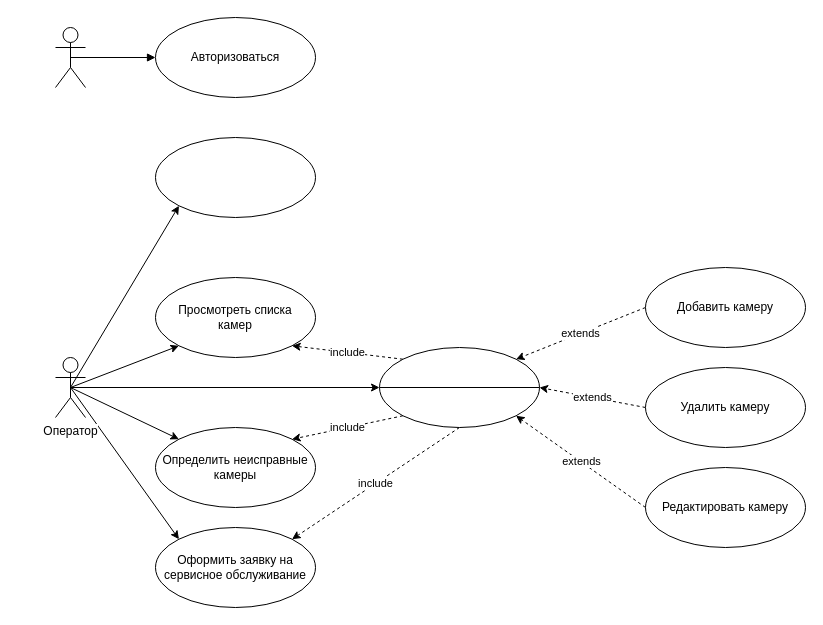
The diagram is 823 pixels wide and 625 high, and some of its shapes have lost their labels. The centre of each missing label's shape, as x and y in pixels:
"Неавторизованный пользователь" goes at point 70,57.
"Просмотреть список сервисных организаций" goes at point 235,177.
"Управление камерами Добавить, удалить, редактировать" goes at point 459,387.
